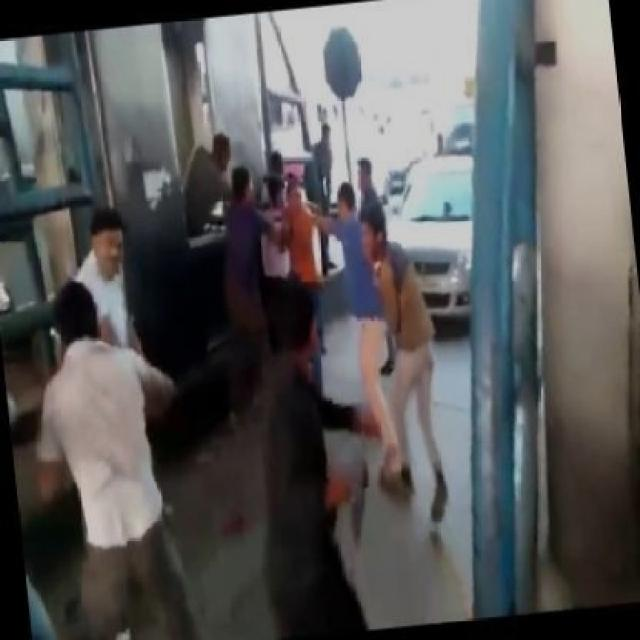fight: (2, 204, 235, 638)
